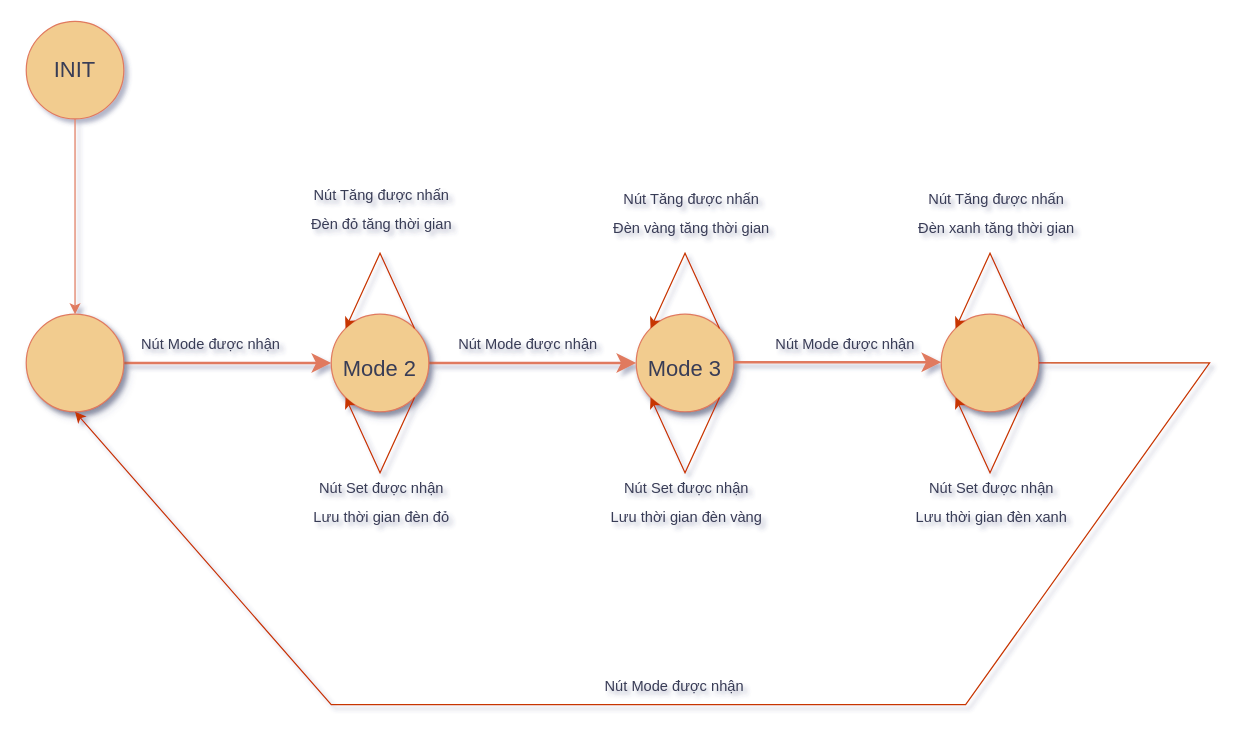
Some shapes in this 1248 by 743 pixel diagram are drawn without their labels. Each missing label, with the centre of its shape:
Mode 4: the point at 990,364
Mode1: the point at 75,364
